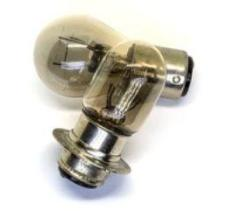lightbulb: (33, 12, 193, 188), (32, 13, 126, 98)
